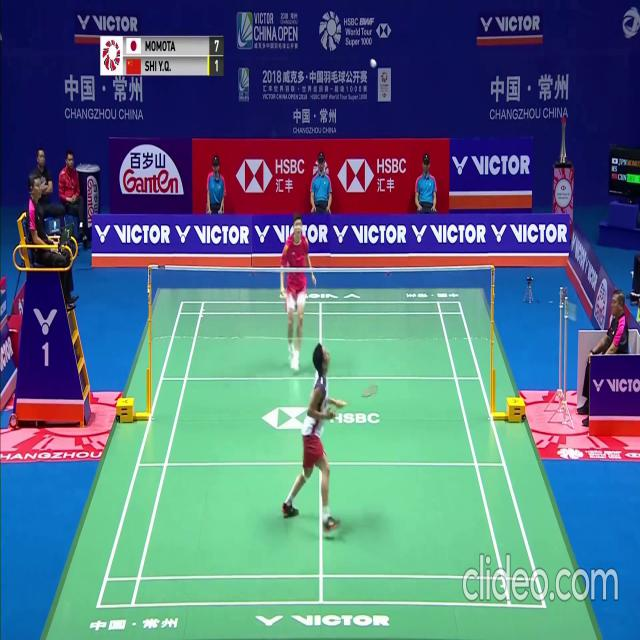Shuttlecock: (371, 58, 376, 66)
